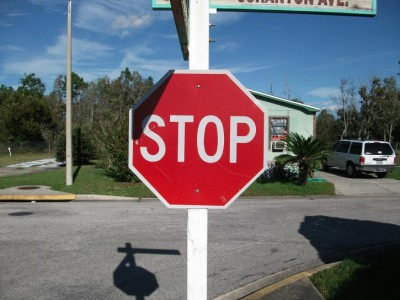stop: (136, 85, 261, 195)
